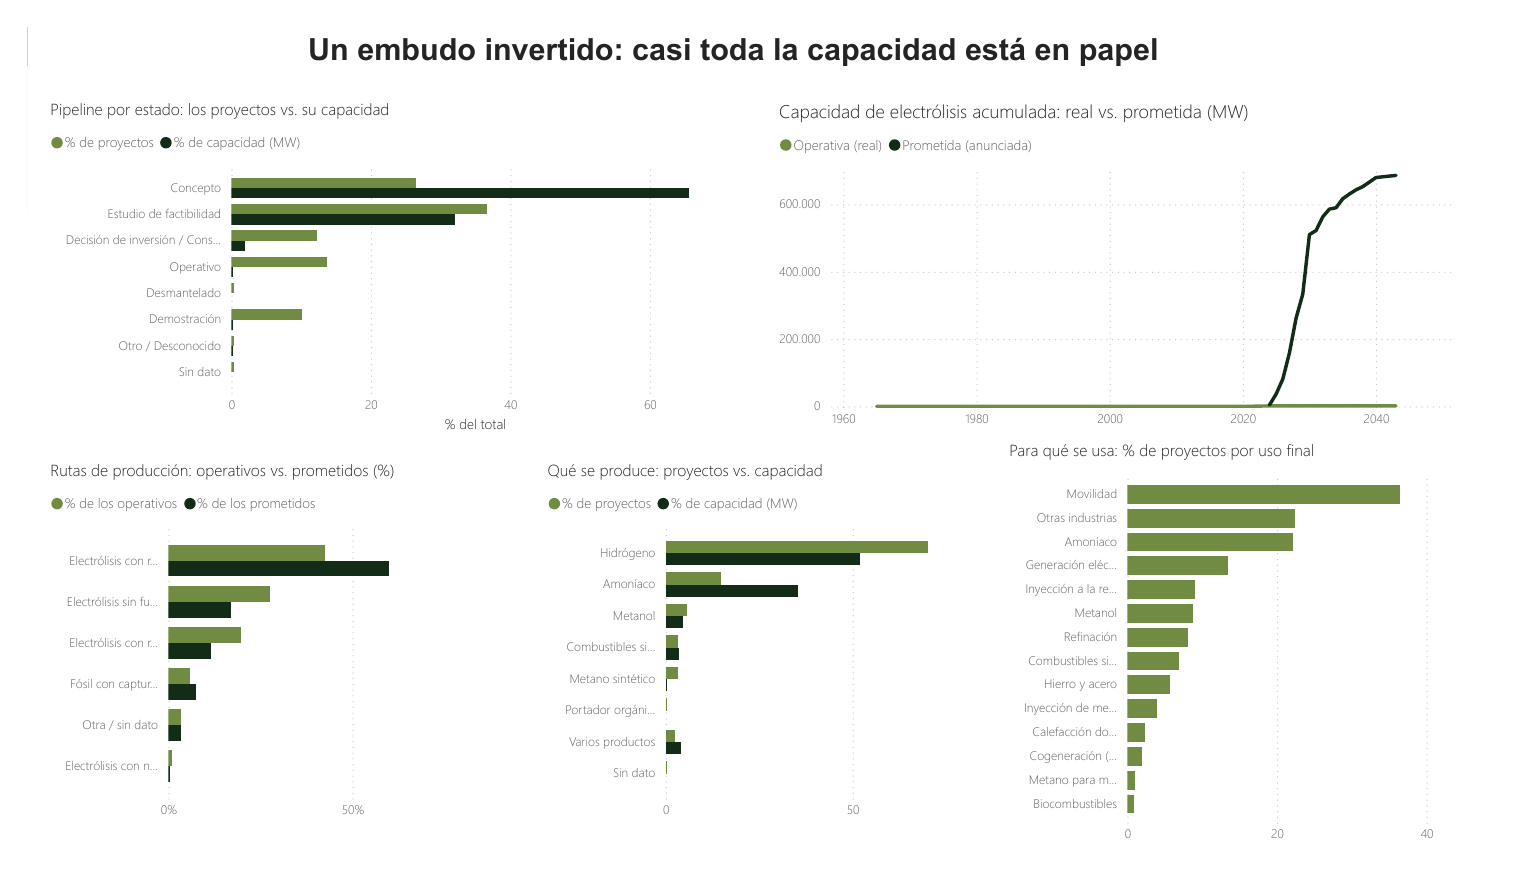

This screenshot's page, from the dashboard's own definition file:
{"tool":"powerbi","page":{"name":"Pipeline y Produccion","canvas":[1280,720],"ordinal":1},"visuals":[{"type":"clusteredBarChart","title":"Pipeline por estado: los proyectos vs. su capacidad","fields":{"Category":["P2 Pipeline.estado"],"Y":["Max(P2 Pipeline.pct_proyectos)","Max(P2 Pipeline.pct_mwel)"]},"box":[14.6,61.5,600.7,297.9],"z":0},{"type":"lineChart","title":"Capacidad de electrólisis acumulada: real vs. prometida (MW)","fields":{"Category":["P3 Crecimiento.año"],"Y":["Max(P3 Crecimiento.real_acumulado)","Max(P3 Crecimiento.prometido_acumulado)"]},"box":[650.9,61.5,600.7,297.9],"z":1000},{"type":"clusteredBarChart","title":"Rutas de producción: operativos vs. prometidos (%)","fields":{"Category":["P5 Rutas.ruta"],"Y":["Divide(Max(P5 Rutas.operativos), ScopedEval(Max(P5 Rutas.operativos), []))","Divide(Max(P5 Rutas.prometidos), ScopedEval(Max(P5 Rutas.prometidos), []))"]},"box":[14.6,377.3,380.5,322.2],"z":2000},{"type":"clusteredBarChart","title":"Qué se produce: proyectos vs. capacidad","fields":{"Category":["P6A Productos.producto"],"Y":["Max(P6A Productos.pct_proyectos)","Max(P6A Productos.pct_mwel)"]},"box":[448.5,377.3,380.5,322.2],"z":3000},{"type":"barChart","title":"Para qué se usa: % de proyectos por uso final","fields":{"Category":["P6B Usos.uso_final"],"Y":["Max(P6B Usos.pct_de_proyectos_con_uso)"]},"box":[851.7,359.5,380.5,361.1],"z":4000},{"type":"textbox","box":[100.4,0,1031.4,55.1],"z":5000}]}

Visuals, with their boxes in screenshot pixels (x1, y1, x2, y2), scaled from the page's 1280x720 canvas onto the 1522x880 screenshot:
"Pipeline por estado: los proyectos vs. su capacidad" clusteredBarChart: x1=17, y1=75, x2=732, y2=439
"Capacidad de electrólisis acumulada: real vs. prometida (MW)" lineChart: x1=774, y1=75, x2=1488, y2=439
"Rutas de producción: operativos vs. prometidos (%)" clusteredBarChart: x1=17, y1=461, x2=470, y2=855
"Qué se produce: proyectos vs. capacidad" clusteredBarChart: x1=533, y1=461, x2=986, y2=855
"Para qué se usa: % de proyectos por uso final" barChart: x1=1013, y1=439, x2=1465, y2=879
textbox: x1=119, y1=0, x2=1346, y2=67
